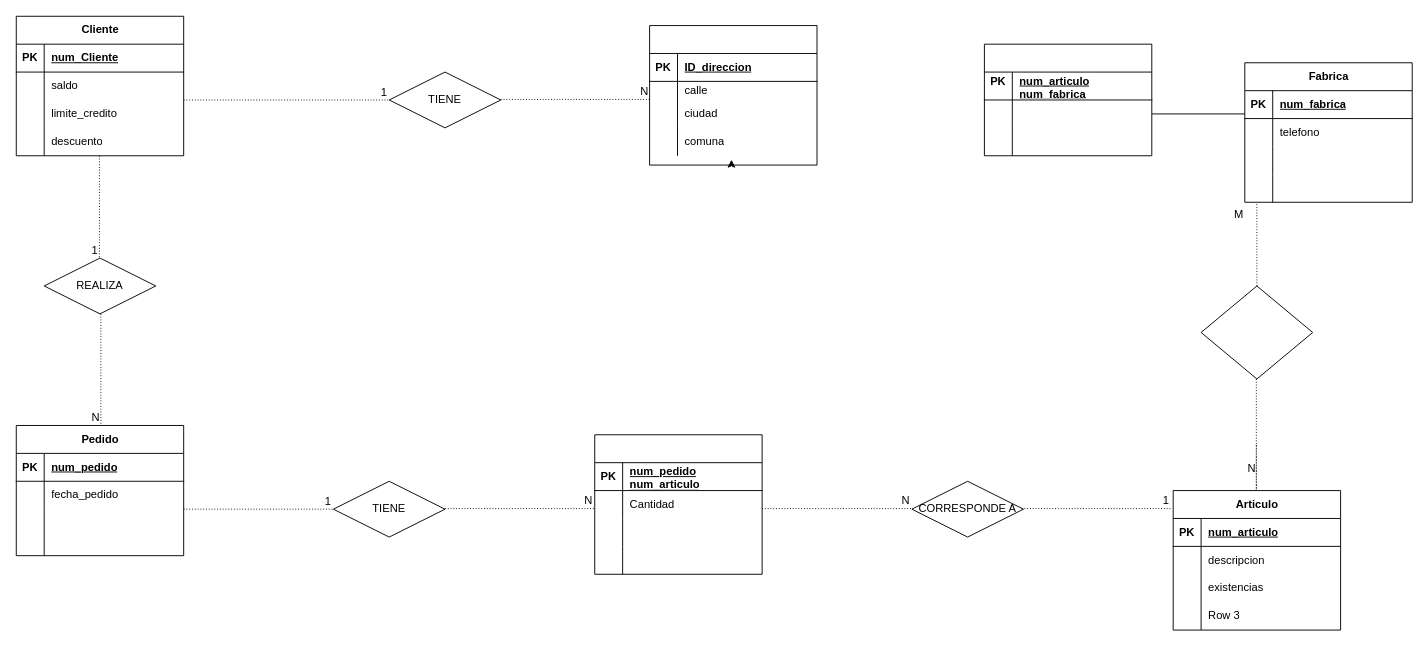
This 1428x646 diagram has some shape labels left out. Here are the shapes that lost their labels. From the top down, the box of each, then its label:
(649, 25, 817, 165): Direccion_envio
(983, 43, 1152, 156): articulo_fabrica
(1200, 285, 1313, 379): Se suministra por
(594, 434, 762, 574): Detalle_pedido
